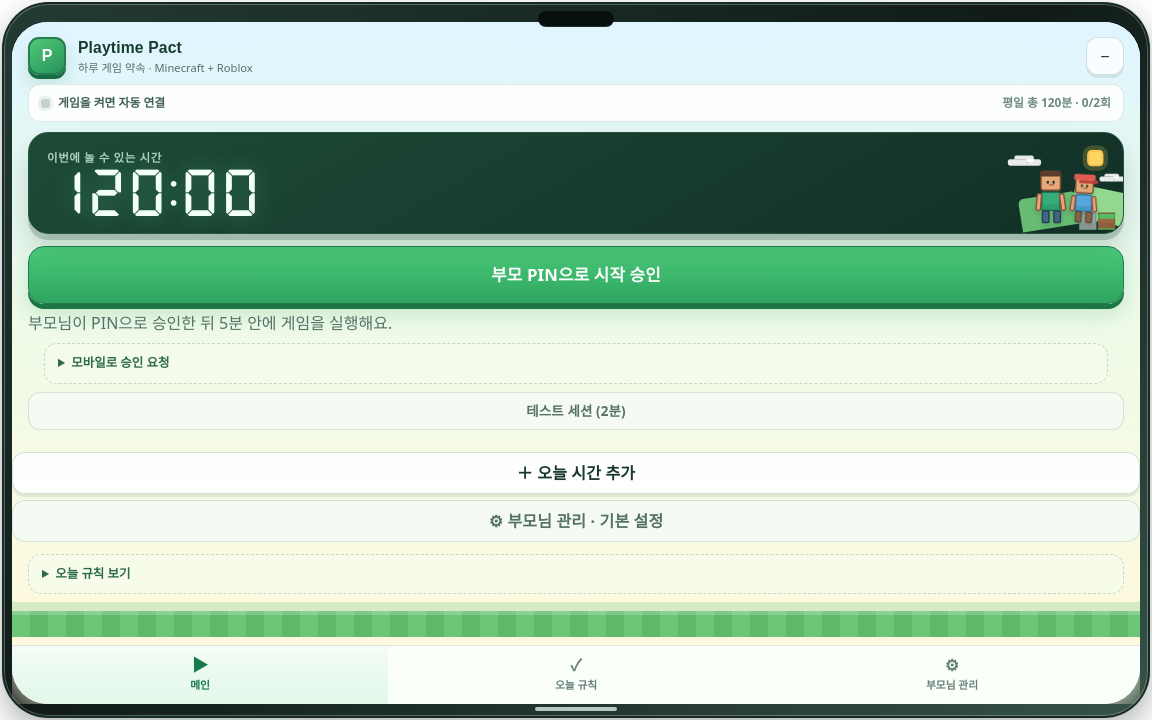
renderer interactions › allows PC PIN approval while the remote service is online
Click the button "부모 PIN으로 시작 승인": (576, 275) 28,246 -> 1124,304
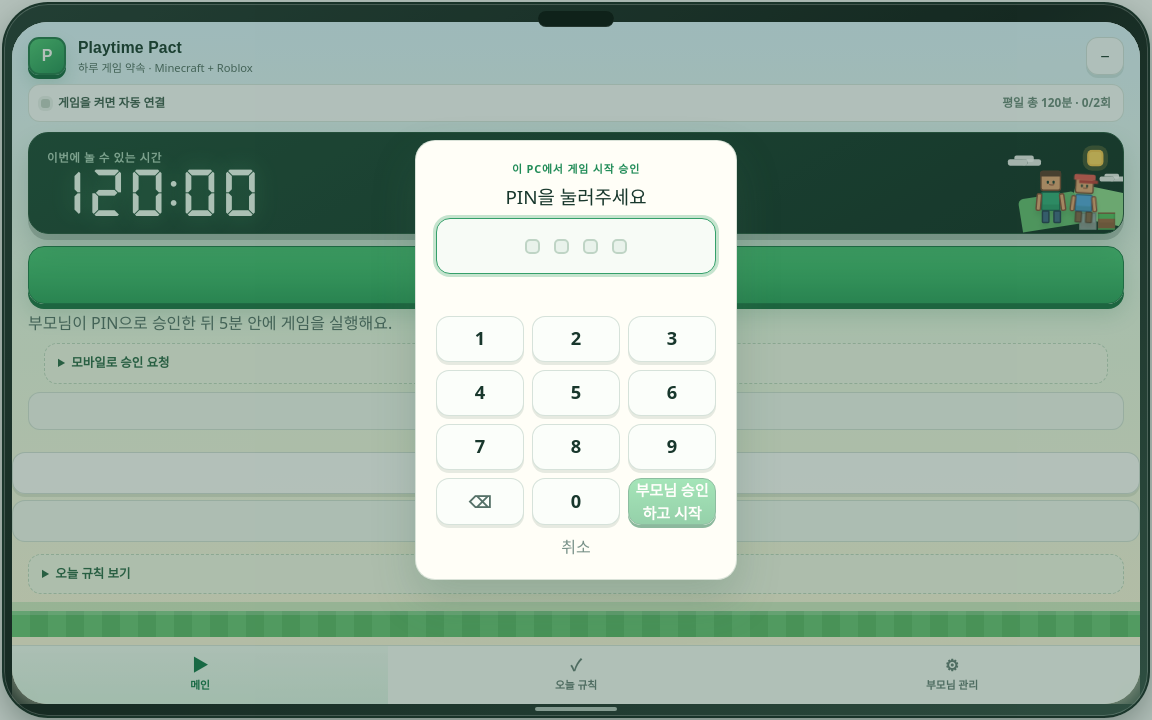
Click the button "1": (480, 339) 436,316 -> 524,362
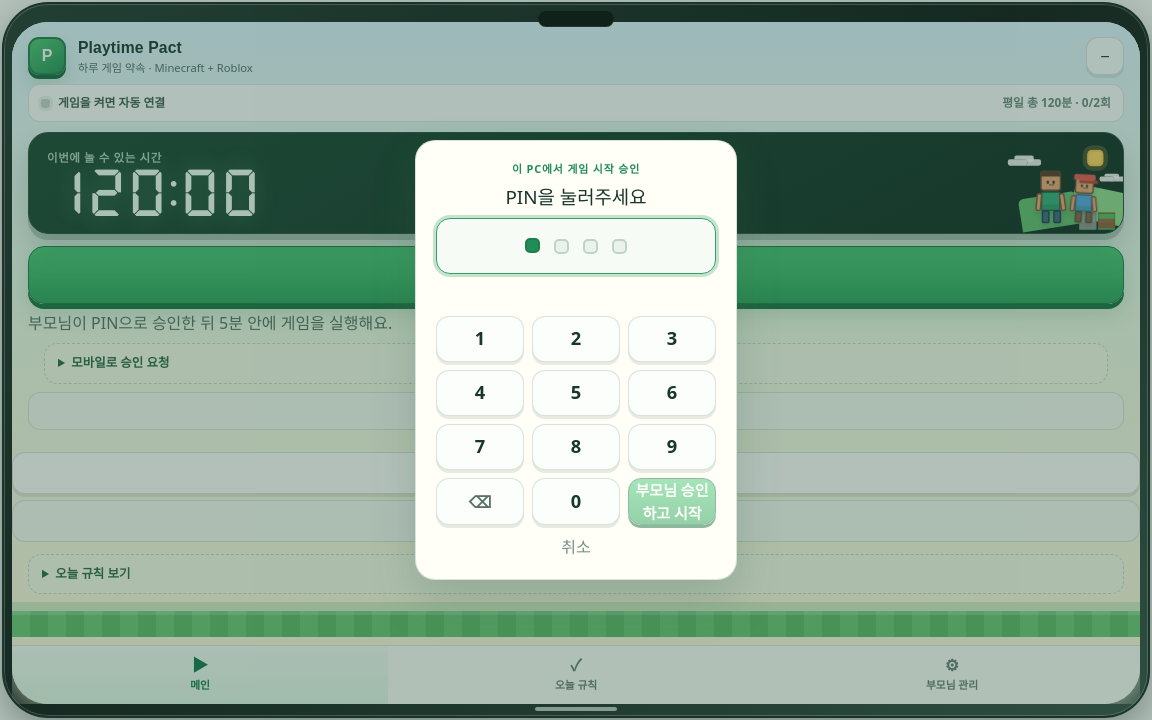
Click the button "2": (576, 339) 532,316 -> 620,362
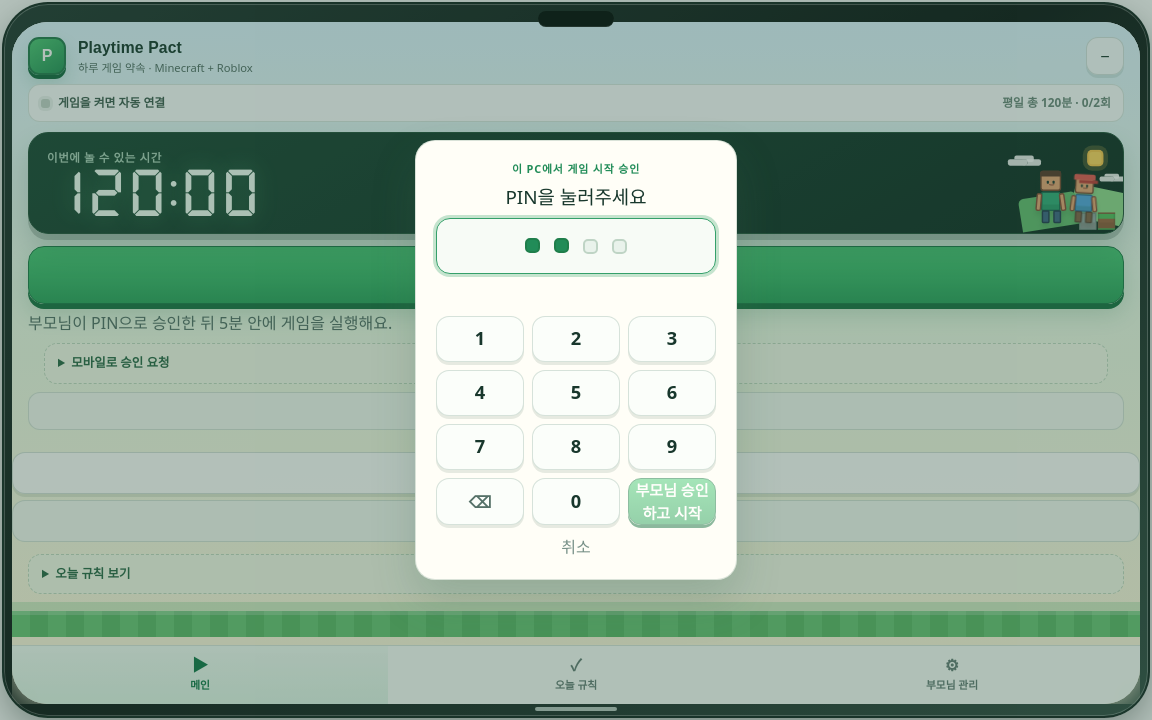
Click the button "3": (672, 339) 628,316 -> 716,362
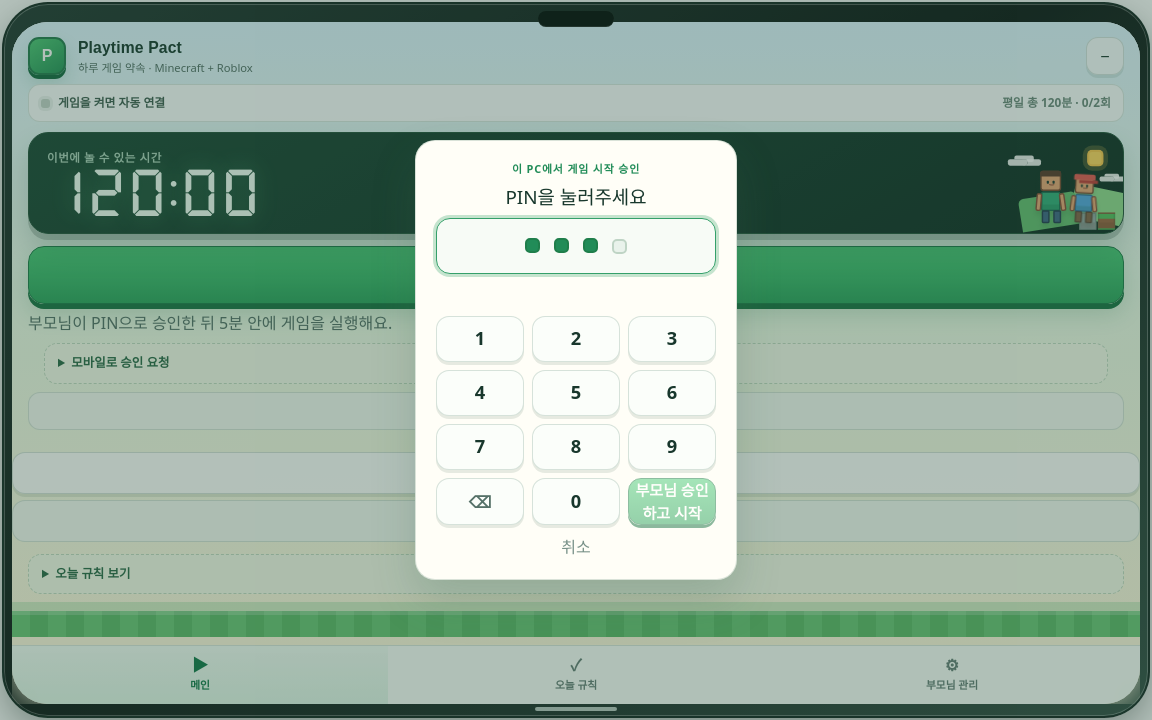
Click the button "4": (480, 393) 436,370 -> 524,416
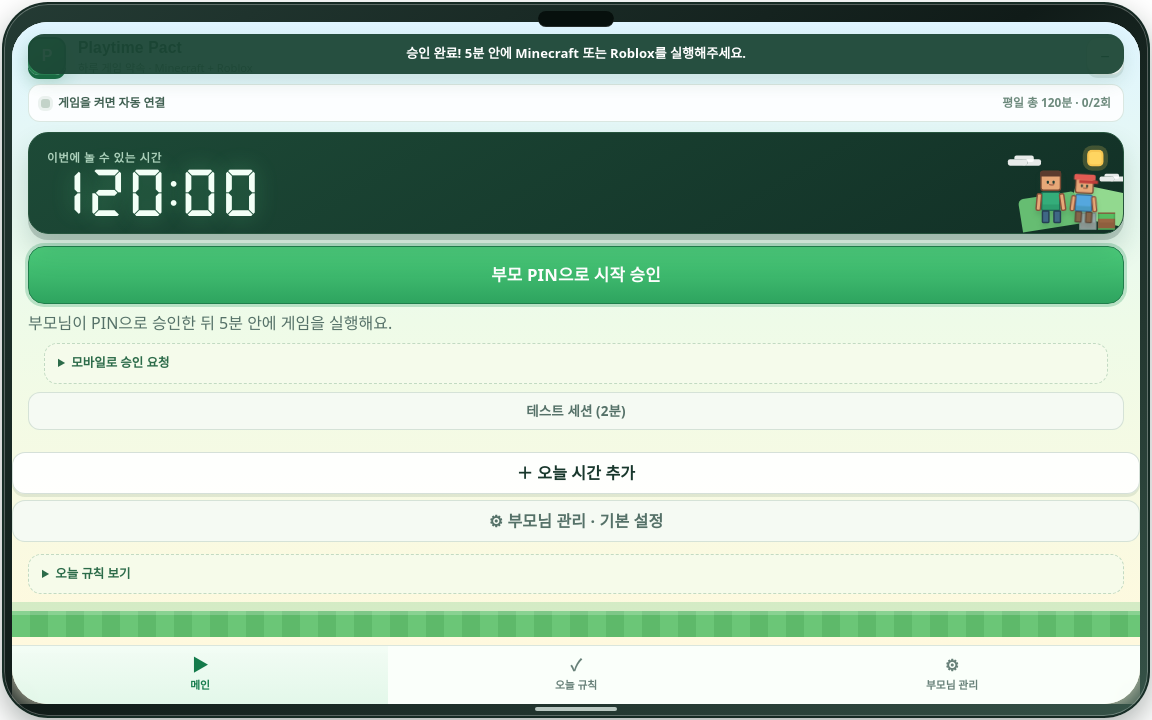
Expected: the text "승인 완료! 5분 안에 Minecraft 또는 Roblox를 실행해주세요." is shown, 28,34 -> 1124,74
